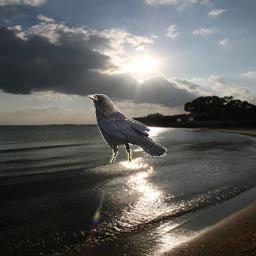Crow: (87, 94, 167, 163)
